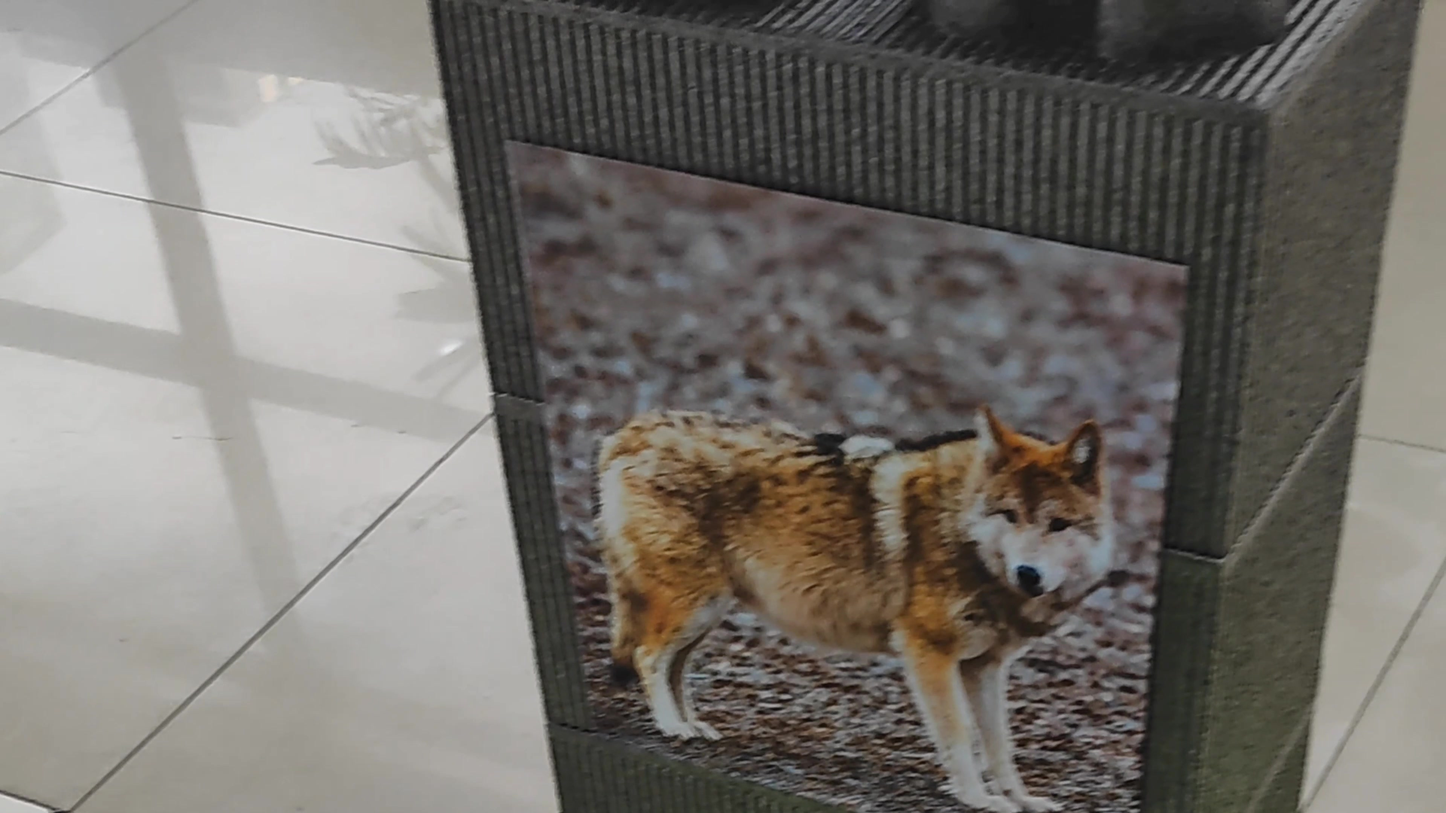wolf: (537, 321, 1149, 811)
